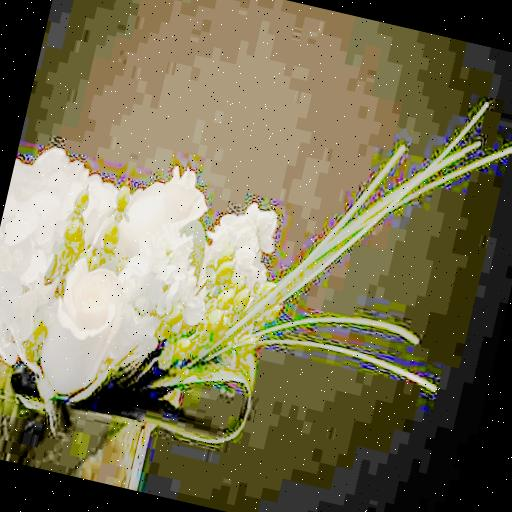rose: (32, 252, 134, 406)
